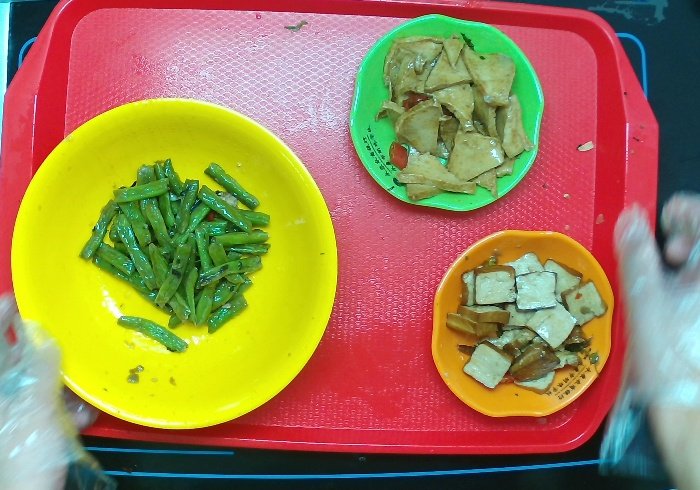YKMZ-Huang_Se_Tang_Wan: (5, 92, 341, 432)
YKMZ-Ju_Se_Ao_Bian_Wan: (423, 220, 617, 422)
YKMZ-Lv_Se_Ao_Bian_Wan: (344, 11, 546, 221)
